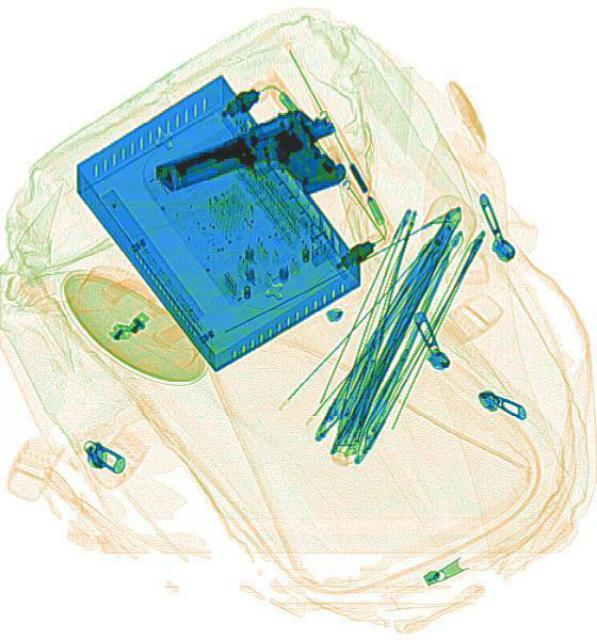Gun: (150, 97, 353, 241)
